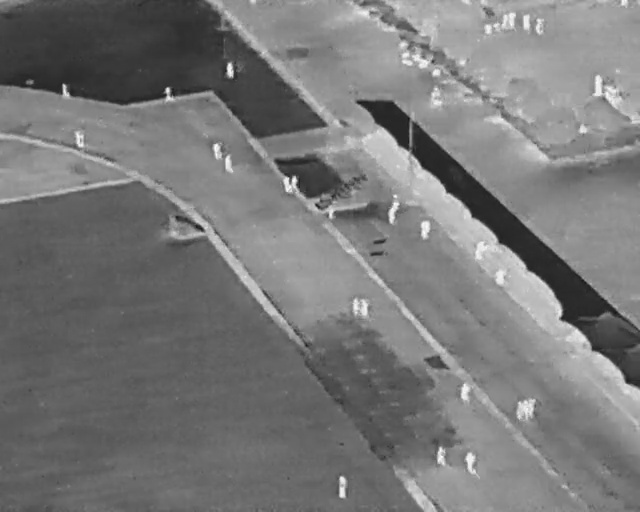DontCare: (396, 37, 442, 81)
Person: (464, 451, 478, 475), (430, 84, 443, 106), (338, 475, 348, 499), (494, 268, 507, 286), (593, 74, 603, 96), (421, 219, 431, 240), (74, 131, 85, 148), (213, 142, 223, 160), (225, 154, 234, 174), (437, 446, 446, 465), (391, 194, 400, 213), (529, 399, 537, 420), (282, 176, 291, 194), (291, 175, 300, 193), (461, 383, 470, 401), (164, 86, 174, 102), (352, 297, 360, 316), (523, 13, 531, 32), (523, 401, 530, 421), (226, 62, 234, 79), (361, 299, 369, 316), (388, 208, 396, 224), (517, 400, 523, 421), (509, 12, 516, 29), (62, 83, 70, 97), (328, 204, 335, 219), (502, 14, 508, 31), (620, 0, 628, 7)
